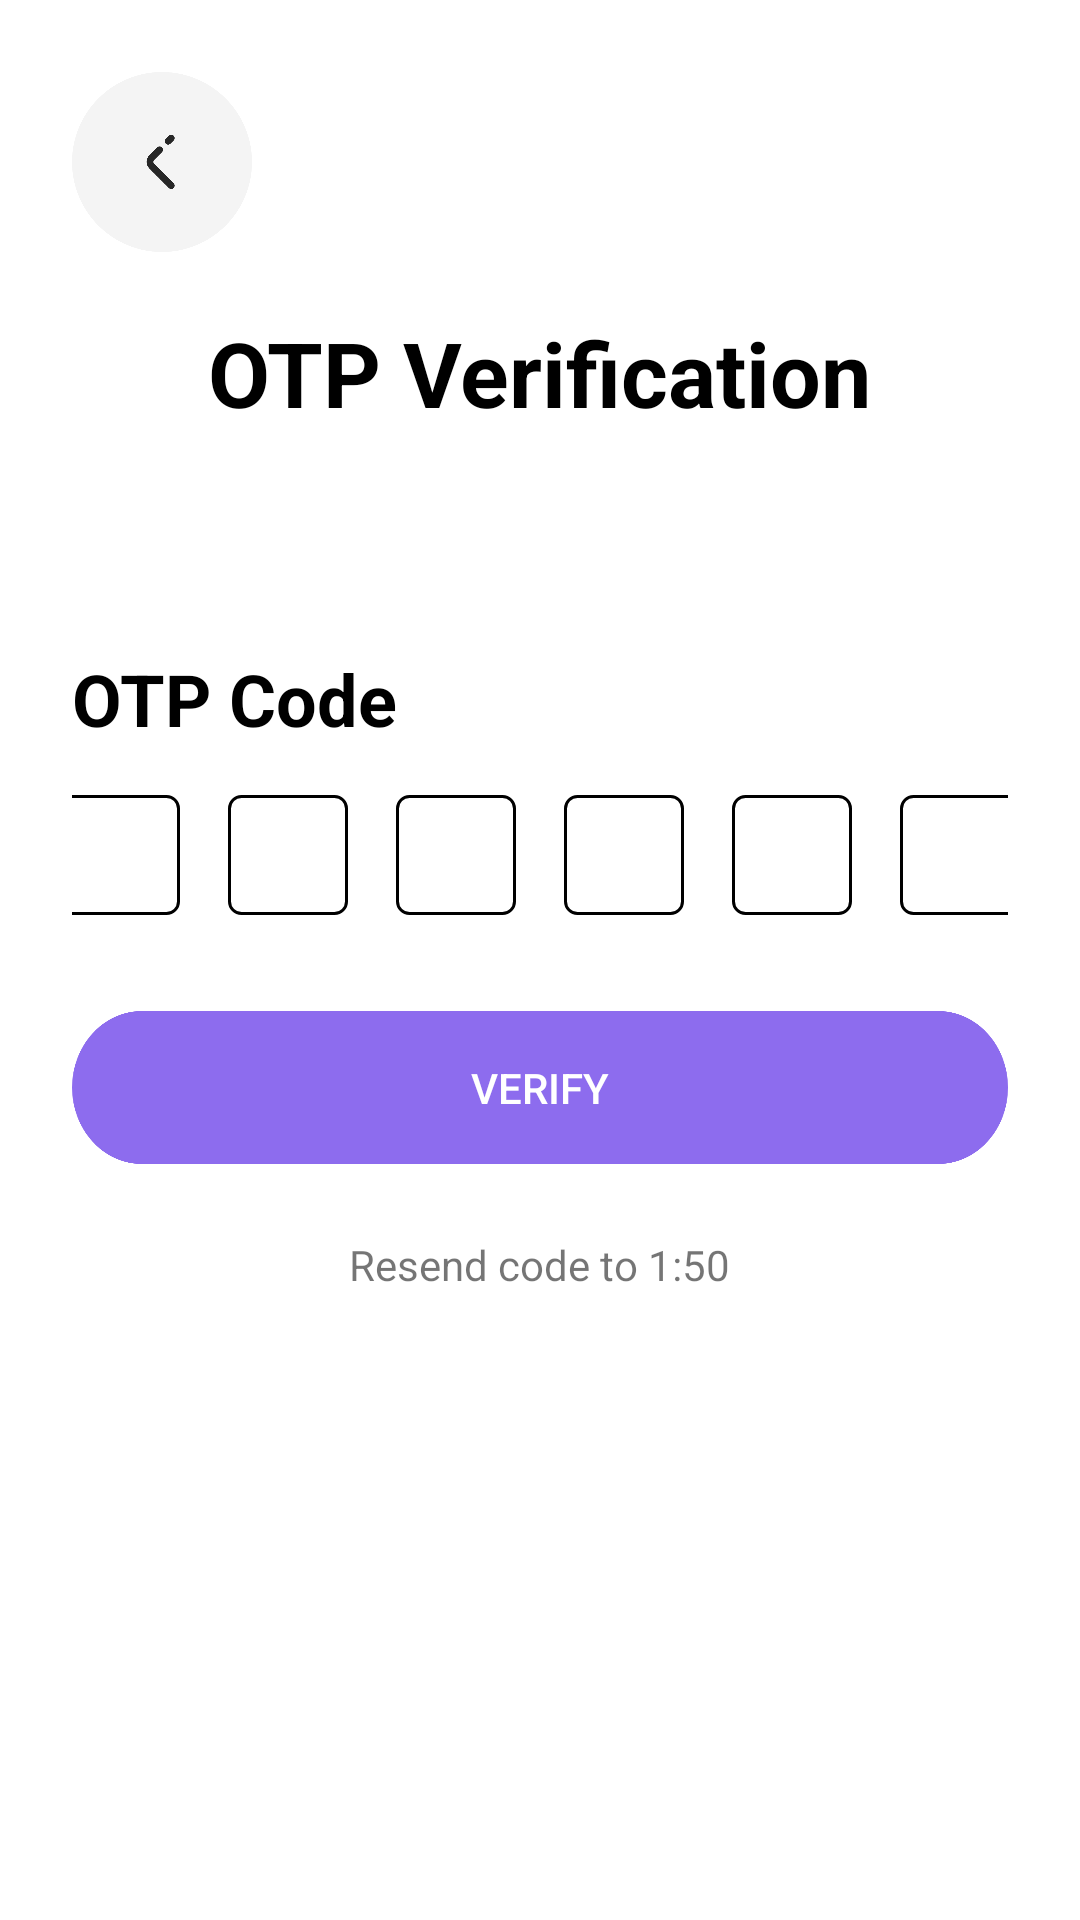

Icons on this 1080 × 1920 Android screen, each with its box as (x1, y1, x2, y2):
arrow back: (72, 72, 252, 252)
